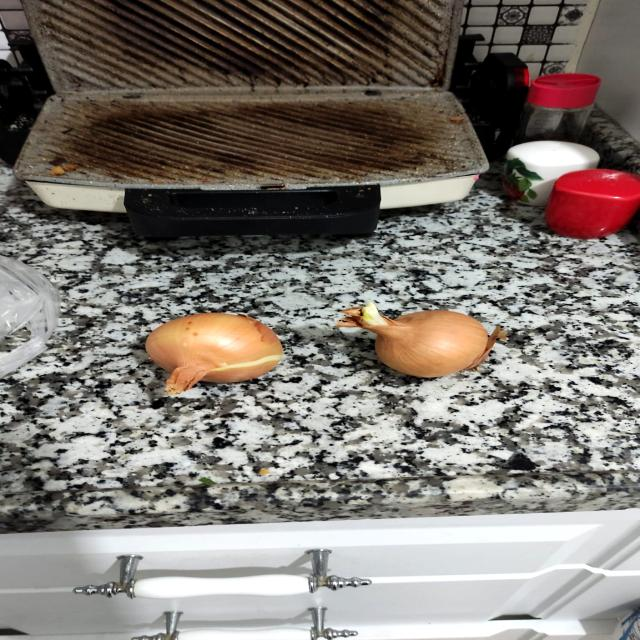onion: (327, 296, 520, 383), (132, 308, 304, 401)
